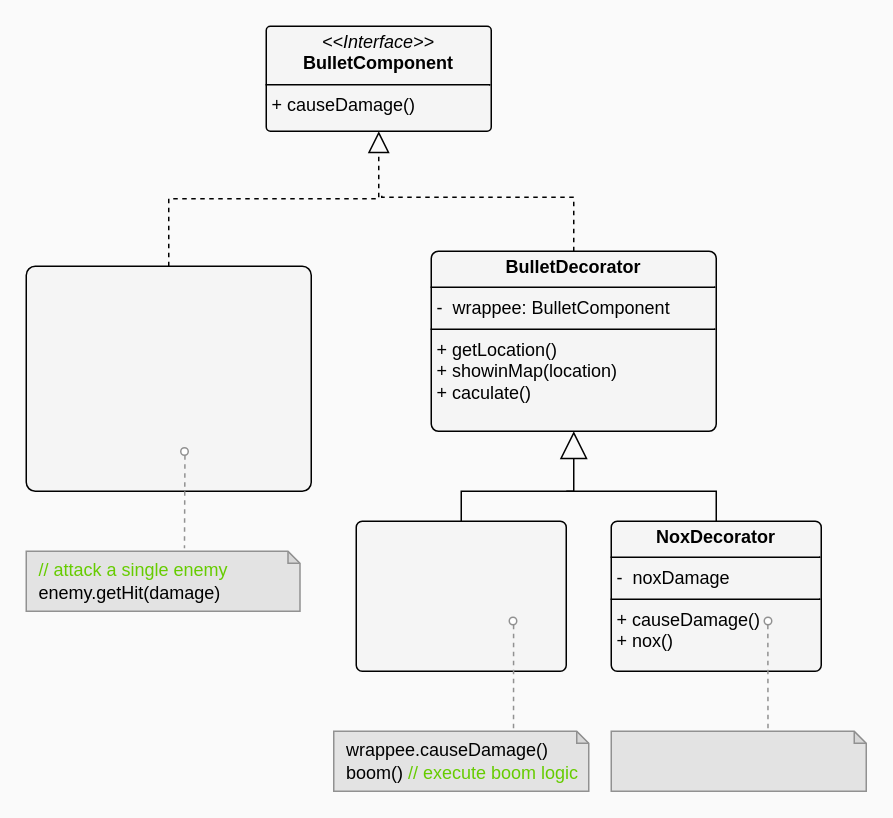
The diagram is 893 pixels wide and 818 high, and some of its shapes have lost their labels. The centre of each missing label's shape, as x and y in pixels:
"Bullet - damage - speed - trackEnemy ... + trackAndAttack() + causeDamage() ..." belongs at (168,378).
"ExplodeDecorator - boomDamage + causeDamage() + boom()" belongs at (460,595).
"wrappee.causeDamage() nox() // execute nox logic" belongs at (738,760).
